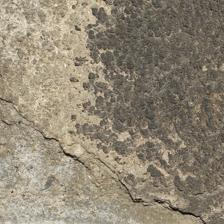Crack: (0, 58, 116, 224), (49, 75, 124, 140)
